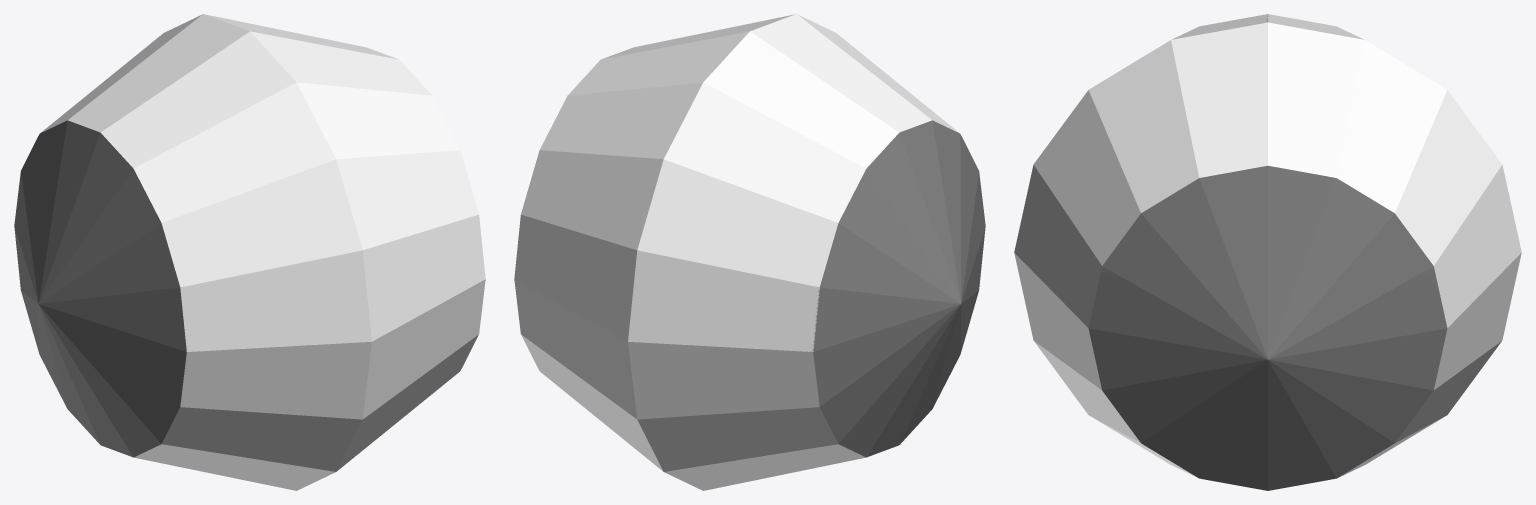
Rendered from Char_4Model.fbx.
3 renders of one model, left to right at view 1: azimuth 30°, elevation 25°; view 2: azimuth 150°, elevation 25°; view 3: azimuth 270°, elevation 25°, orthographic. The views are drawn at different scales.
Visible parts, largest first — view 1: Sphere; view 2: Sphere; view 3: Sphere.
Part boxes in pixels (x1,y1,x2,y2): Sphere: (14, 14, 485, 490); Sphere: (514, 14, 985, 490); Sphere: (1014, 14, 1521, 490).
Bounding box in the file's own units: 200 × 200 × 200.
